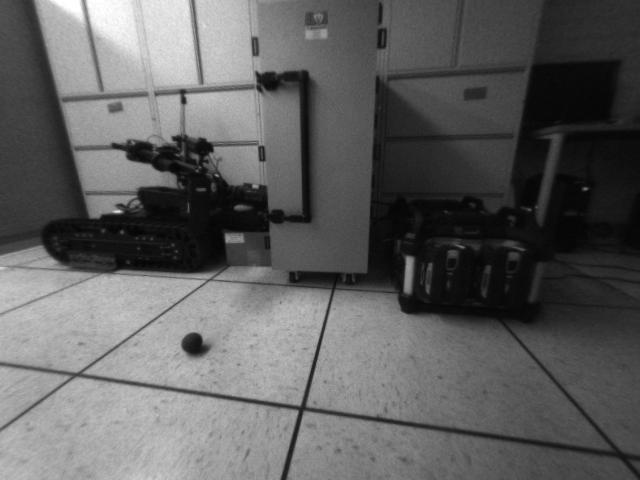dogtoy: (175, 324, 214, 359)
